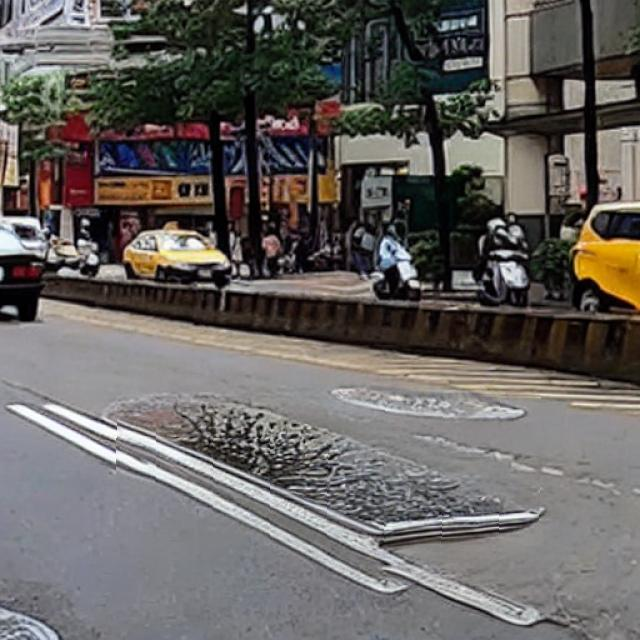puddle: (117, 392, 542, 546)
